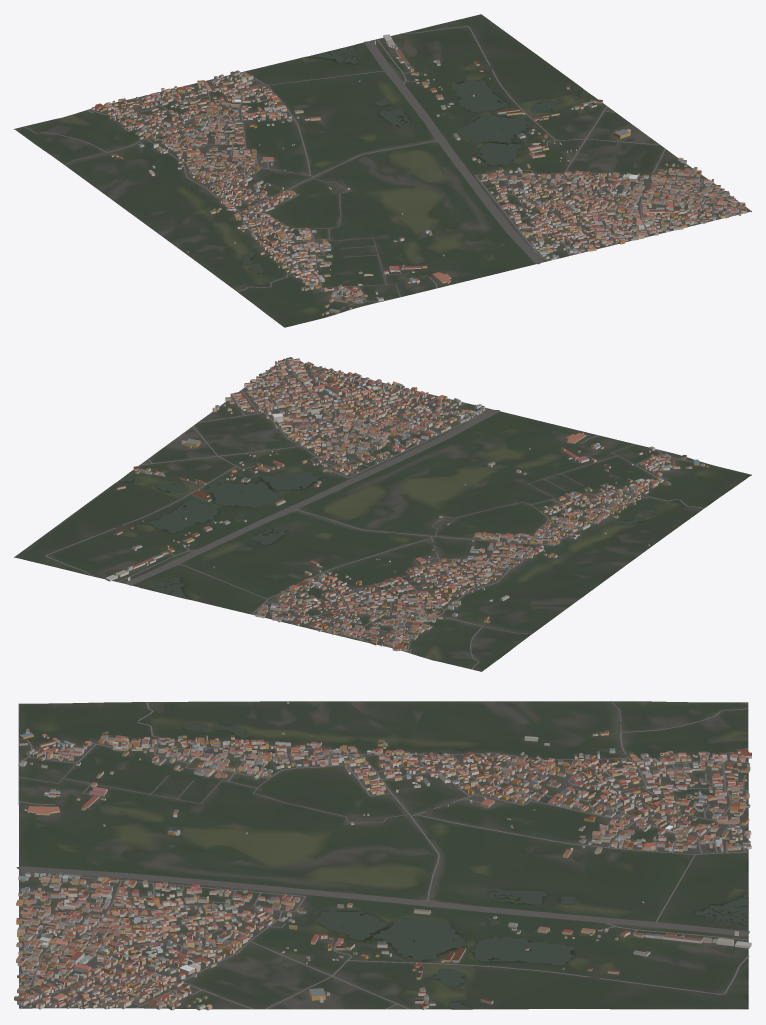
3 views of the same model, one above another, from view 1: azimuth 30°, elevation 25°; view 2: azimuth 150°, elevation 25°; view 3: azimuth 270°, elevation 25° (orthographic). The views are drawn at different scales.
Parts seen in each view (by area): view 1: ground, buildings, roads, water; view 2: ground, buildings, roads, water; view 3: ground, buildings, roads, water.
Boxes of the visible parts, <box> form: ground: <box>14,14,751,327</box>; buildings: <box>91,34,746,315</box>; roads: <box>23,26,751,310</box>; water: <box>62,45,590,273</box>; ground: <box>14,359,751,671</box>; buildings: <box>105,357,708,651</box>; roads: <box>46,358,704,669</box>; water: <box>117,472,655,659</box>; ground: <box>18,701,748,1009</box>; buildings: <box>14,701,751,1010</box>; roads: <box>16,701,749,1009</box>; water: <box>181,724,748,1008</box>.
Size of the model in its own units: 1407 by 21.52 by 1418.
